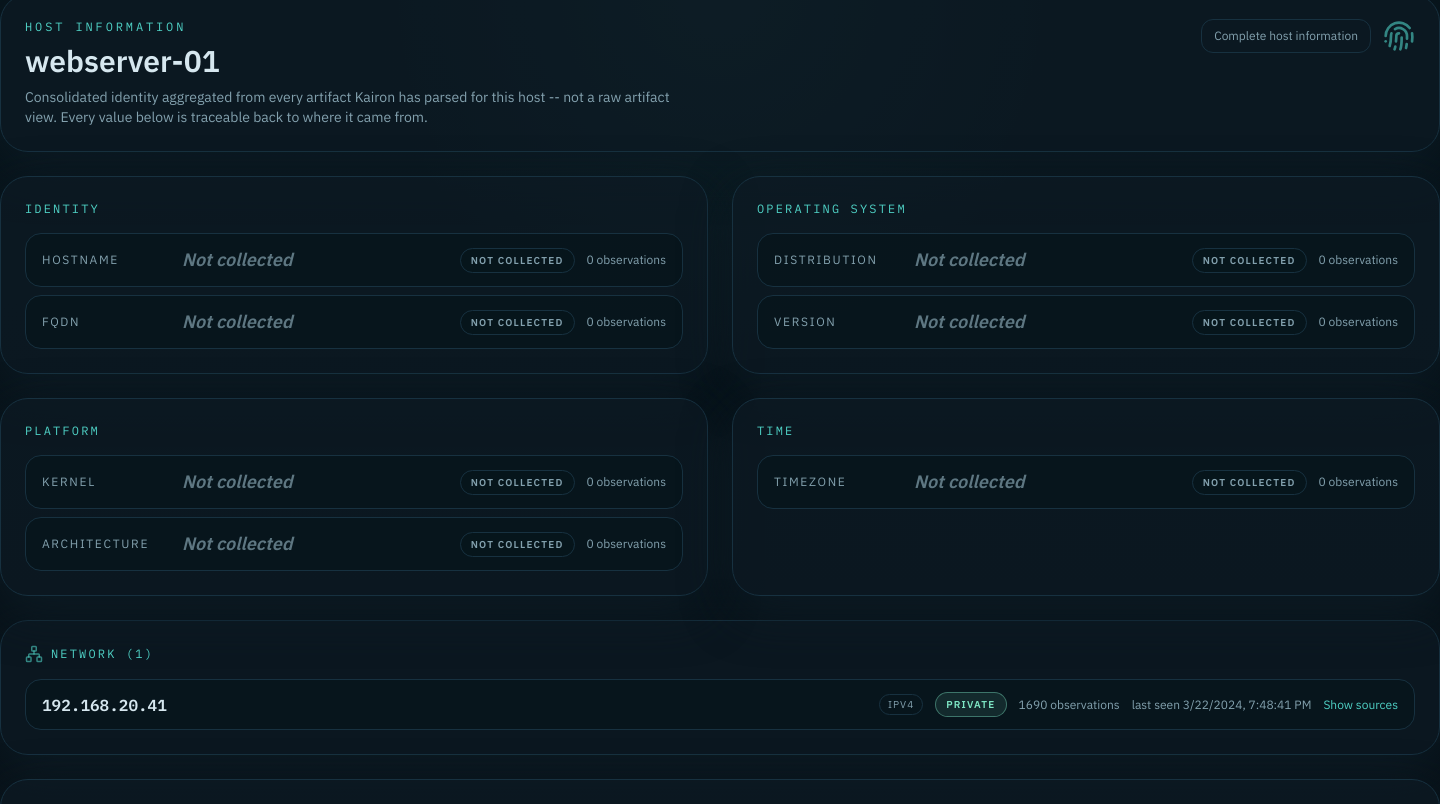
Test: HostInformationPage › Network › expands provenance to show every contributing source with its own observation count and time range
The image size is (1440, 804).
Expected: the element with test id "network-address-row" is shown, [25, 679, 1415, 730]
Click the text "Show sources". click: (1361, 704)
box: [1323, 696, 1398, 712]
(page scrolled)
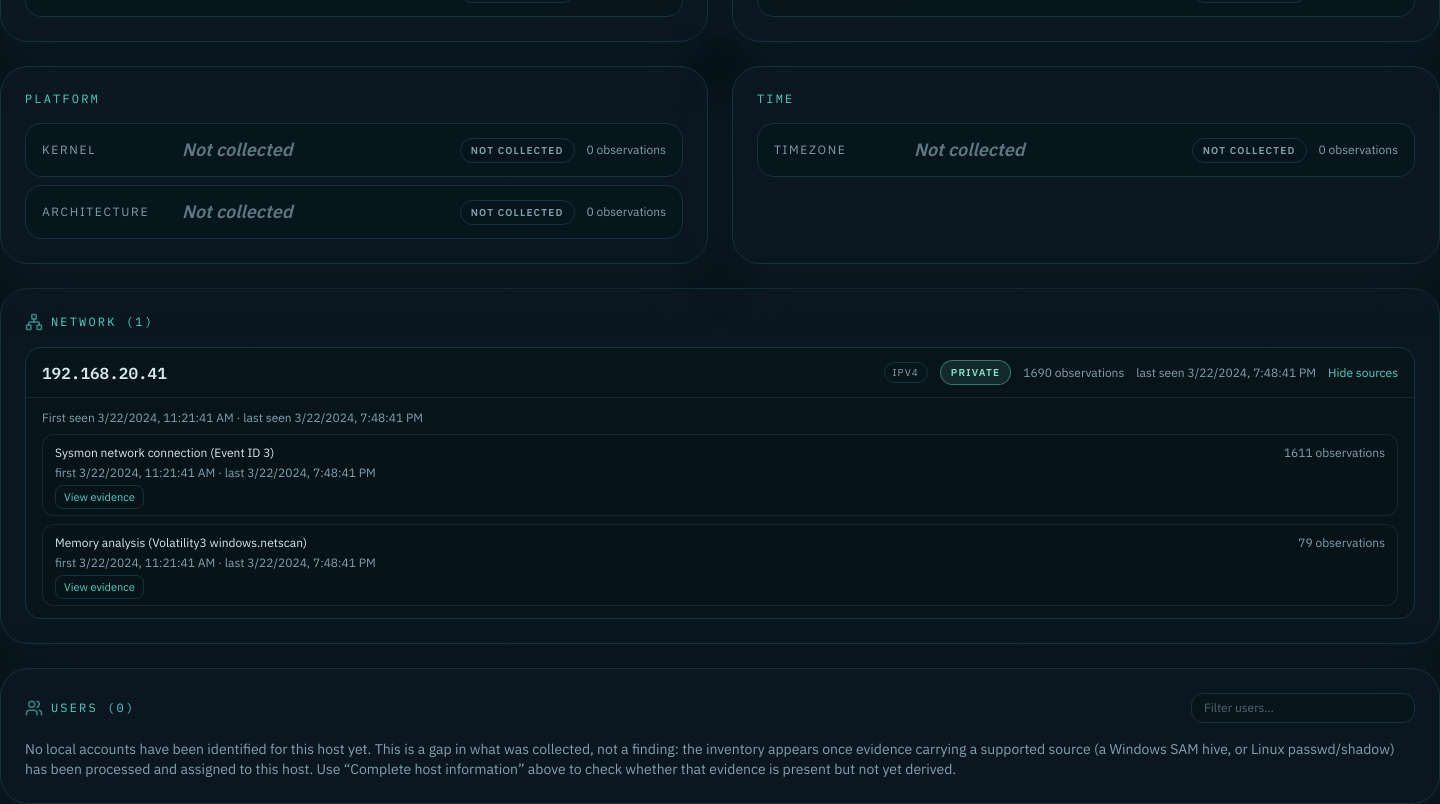
Result: the number of elements with test id "network-observation-source" is 2 at [42, 434, 1398, 516]; [42, 524, 1398, 606]
Result: the element with test id "network-observation-source" shows "Sysmon network connection (Event ID 3)" at [55, 445, 274, 460]
Result: the element with test id "network-observation-source" shows "1611 observations" at [42, 434, 1398, 516]
